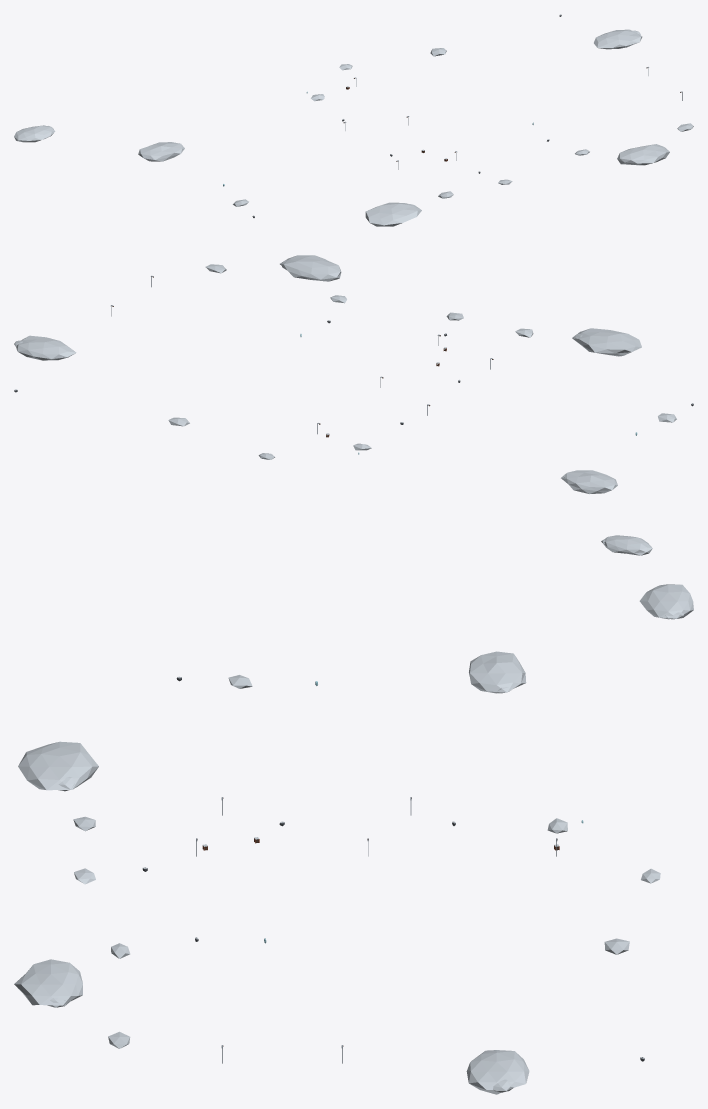
The model's file is Station_Dressing_0_0.fbx.
3 views of the same model, one above another, from view 1: azimuth 30°, elevation 25°; view 2: azimuth 150°, elevation 25°; view 3: azimuth 270°, elevation 25° (orthographic). The views are drawn at different scales.
Visible parts, largest first — view 1: Station_Dressing_0_0; view 2: Station_Dressing_0_0; view 3: Station_Dressing_0_0.
Boxes of the visible parts, box(x1,y1,x2,y2) form: Station_Dressing_0_0: box(14, 14, 693, 226); Station_Dressing_0_0: box(14, 255, 693, 555); Station_Dressing_0_0: box(14, 584, 693, 1094).
Bounding box in the file's own units: 27778 × 732 × 15866.
